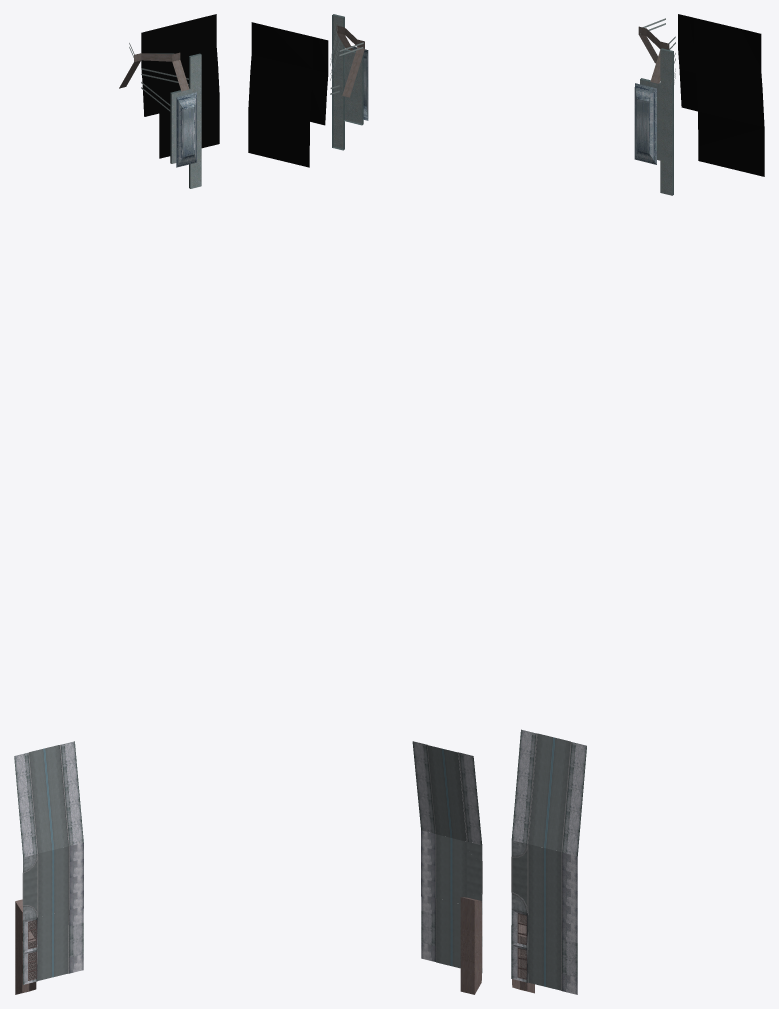
The model's file is industnw_industnw__part_12.obj.
3 renders of one model, left to right at view 1: azimuth 30°, elevation 25°; view 2: azimuth 150°, elevation 25°; view 3: azimuth 330°, elevation 25°, orthographic. The views are drawn at different scales.
Visible parts, largest first — view 1: industnw_industnw__part_12; view 2: industnw_industnw__part_12; view 3: industnw_industnw__part_12.
Part boxes in pixels (left/top/right/bottom): industnw_industnw__part_12: left=14, top=14, right=219, bottom=994; industnw_industnw__part_12: left=248, top=14, right=482, bottom=994; industnw_industnw__part_12: left=511, top=14, right=764, bottom=994.
Bounding box in the file's own units: 70.76 × 290 × 23.29.
Materials: 20 (20 with a texture image).
